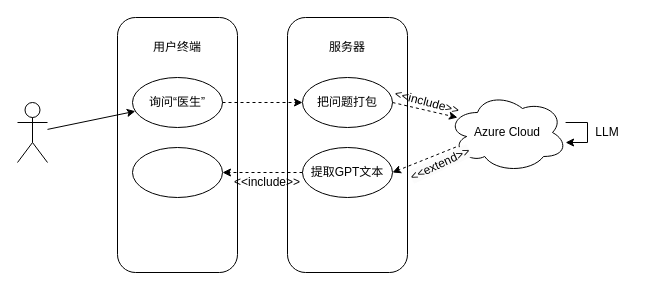
Image size: 655x290. Some labels were removed from this diagram. The shapes that lost their labels are listed below. From the top down, each one's box as (x1, y1, x2, y2) in pixels, then its label:
(16, 102, 48, 162): 用户
(132, 146, 222, 198): “医生”回复
